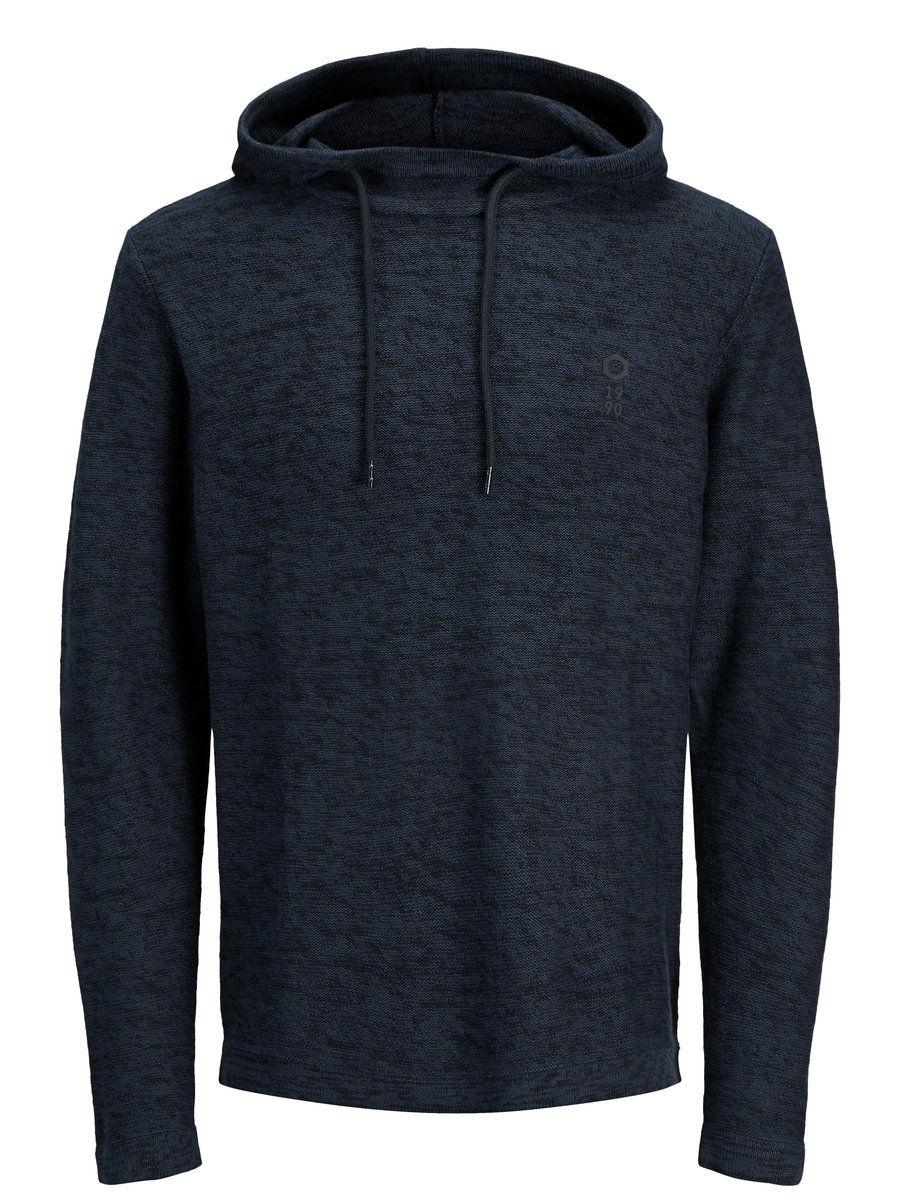teeshirt: (31, 47, 840, 1200)
